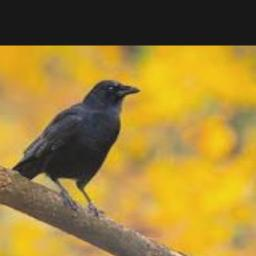Crow: (10, 80, 140, 219)
